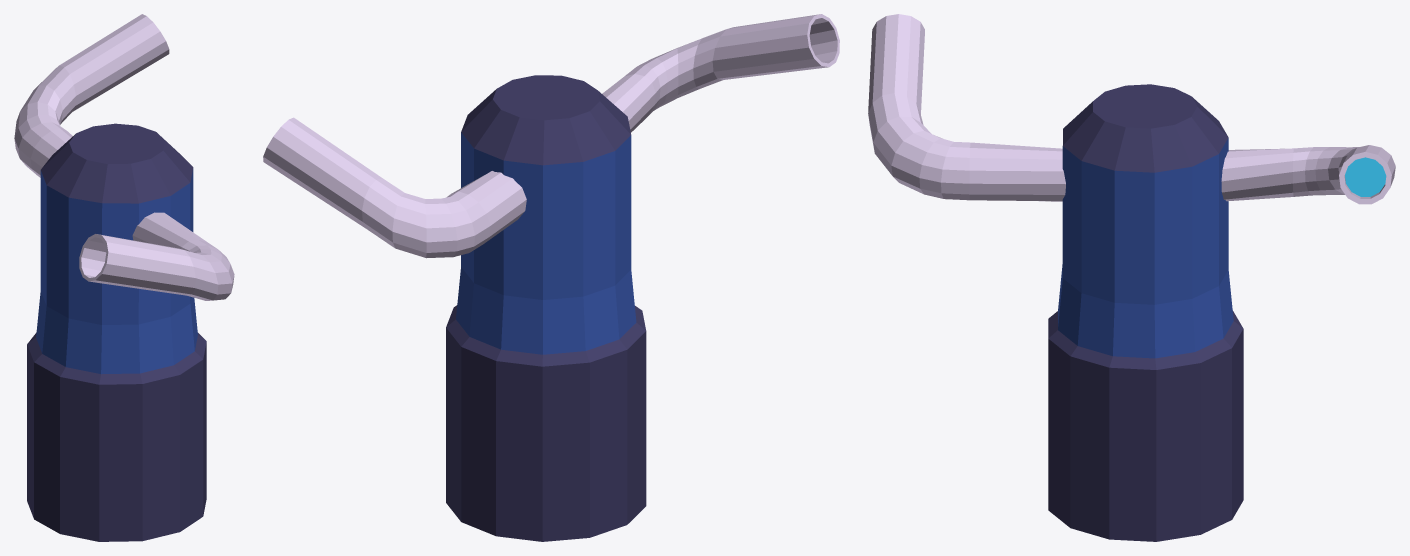
File: aspersor.fbx
The picture shows the model from 3 angles, left to right: view 1: azimuth 30°, elevation 25°; view 2: azimuth 150°, elevation 25°; view 3: azimuth 270°, elevation 25°; orthographic projection. The views are drawn at different scales.
Parts seen in each view (by area): view 1: Cylinder; view 2: Cylinder; view 3: Cylinder.
Part boxes in pixels (x1=…): Cylinder: x1=14, y1=14, x2=234, y2=541; Cylinder: x1=263, y1=14, x2=839, y2=541; Cylinder: x1=868, y1=14, x2=1395, y2=541.
Size of the model in its own units: 253 by 318 by 364.
